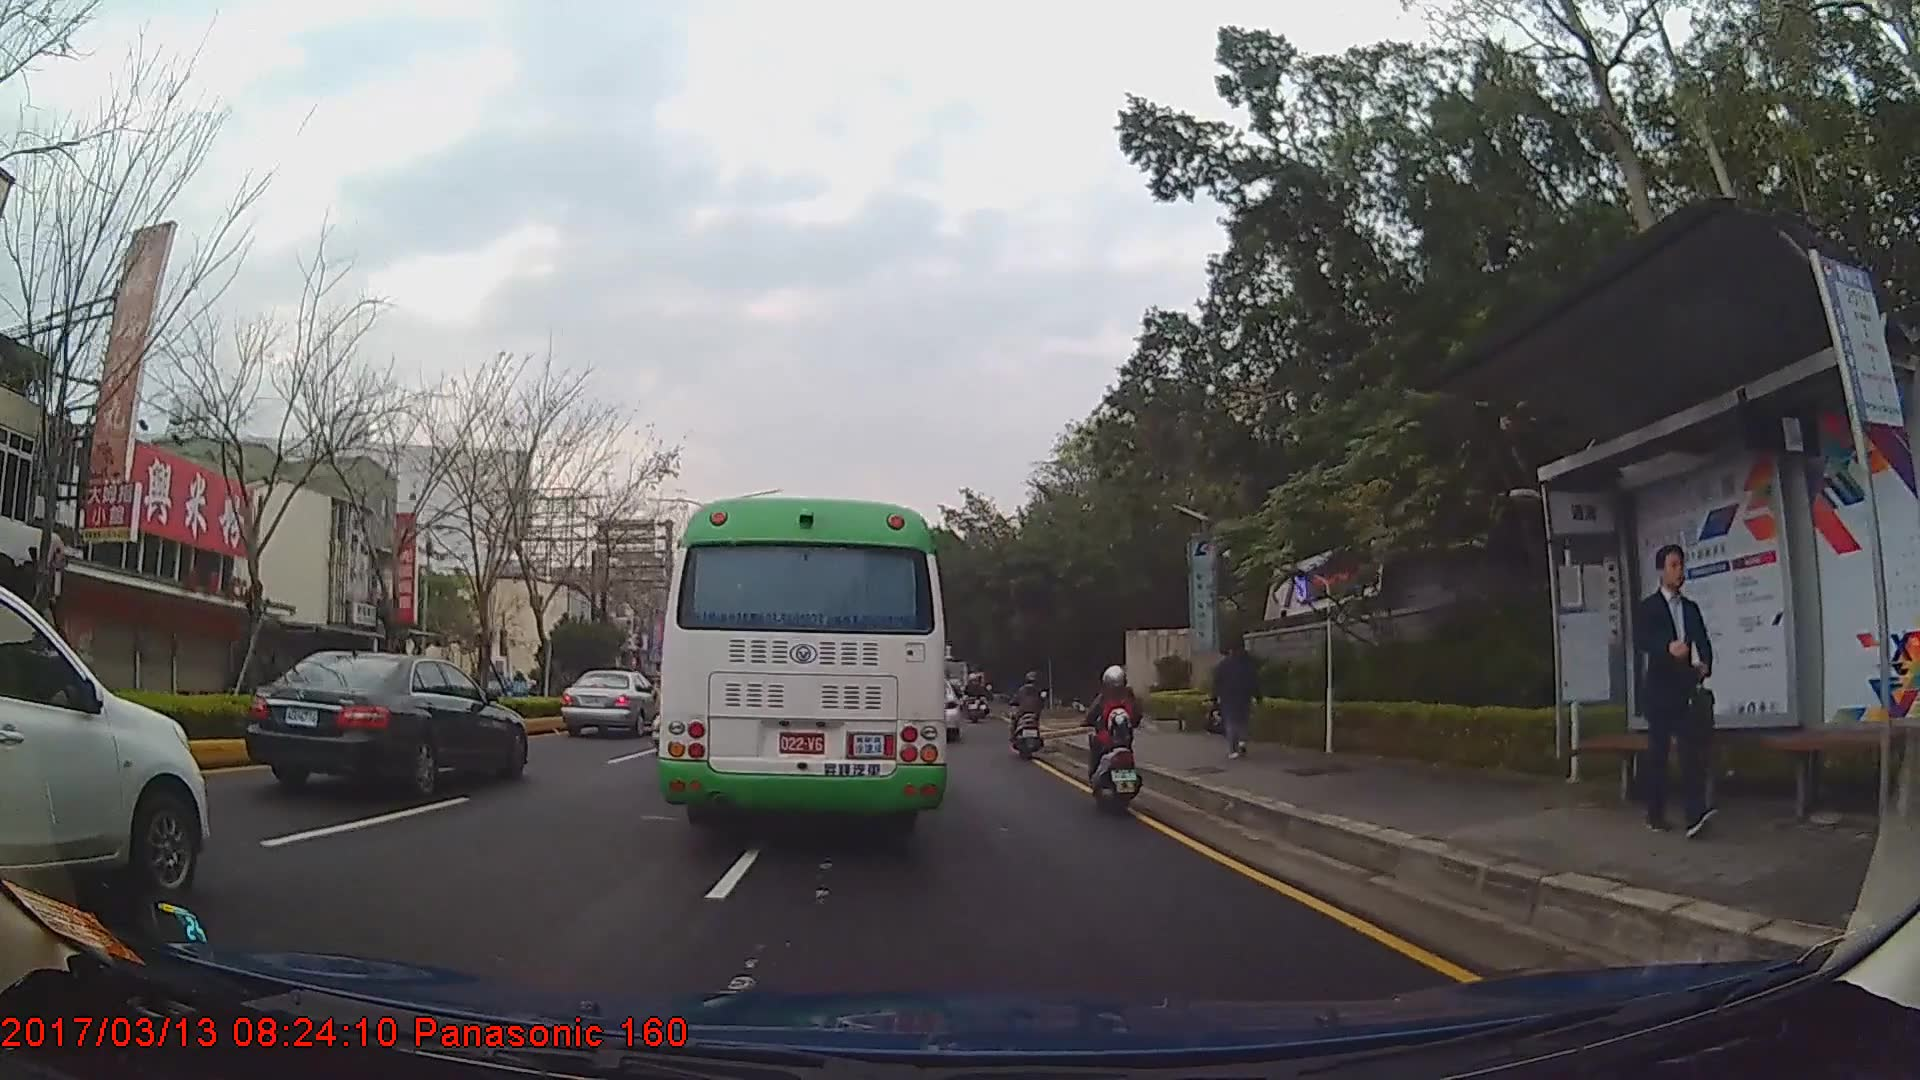pedestrian: (1636, 546, 1718, 839), (1208, 636, 1267, 766)
rider: (1084, 663, 1144, 815), (1010, 667, 1050, 759), (965, 674, 985, 714)
vehicle: (657, 500, 946, 842), (0, 580, 211, 903), (244, 647, 529, 802), (561, 666, 659, 739)
